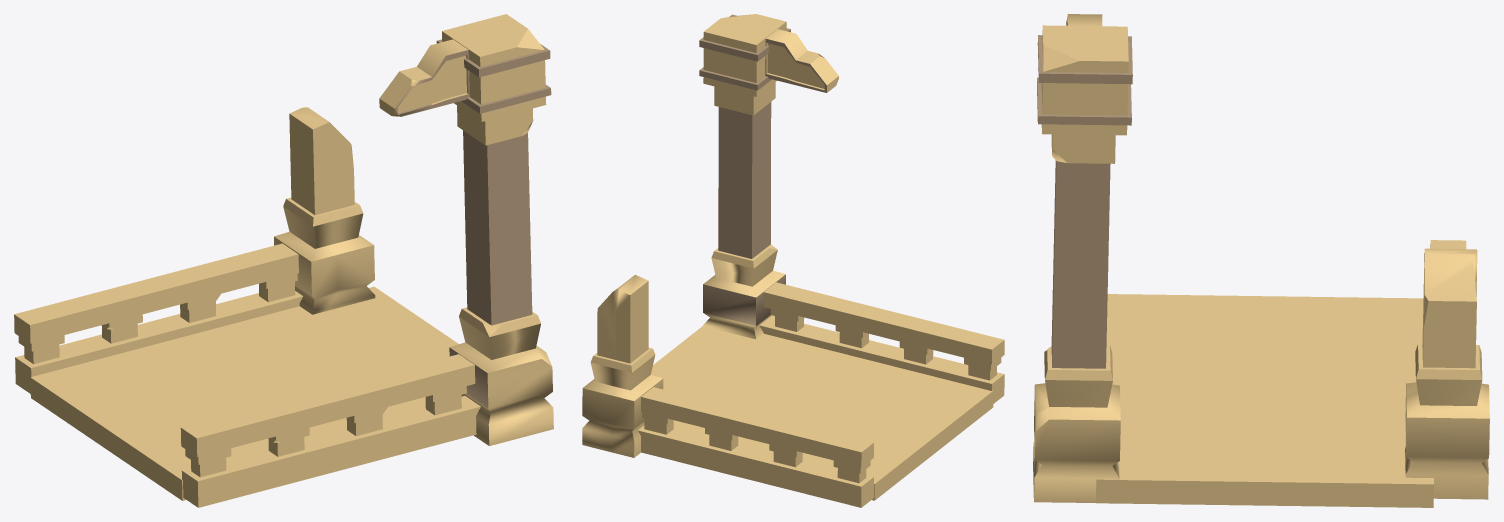
Rendered from platform  1.fbx.
3 renders of one model, left to right at view 1: azimuth 30°, elevation 25°; view 2: azimuth 150°, elevation 25°; view 3: azimuth 270°, elevation 25°, orthographic. The views are drawn at different scales.
Parts seen in each view (by area): view 1: pCube17.019; view 2: pCube17.019; view 3: pCube17.019.
Boxes of the visible parts, x1,y1,x2,y2 form: pCube17.019: [14, 14, 553, 507]; pCube17.019: [582, 14, 1004, 507]; pCube17.019: [1033, 14, 1489, 507].
Size of the model in its own units: 120 by 131 by 120.
